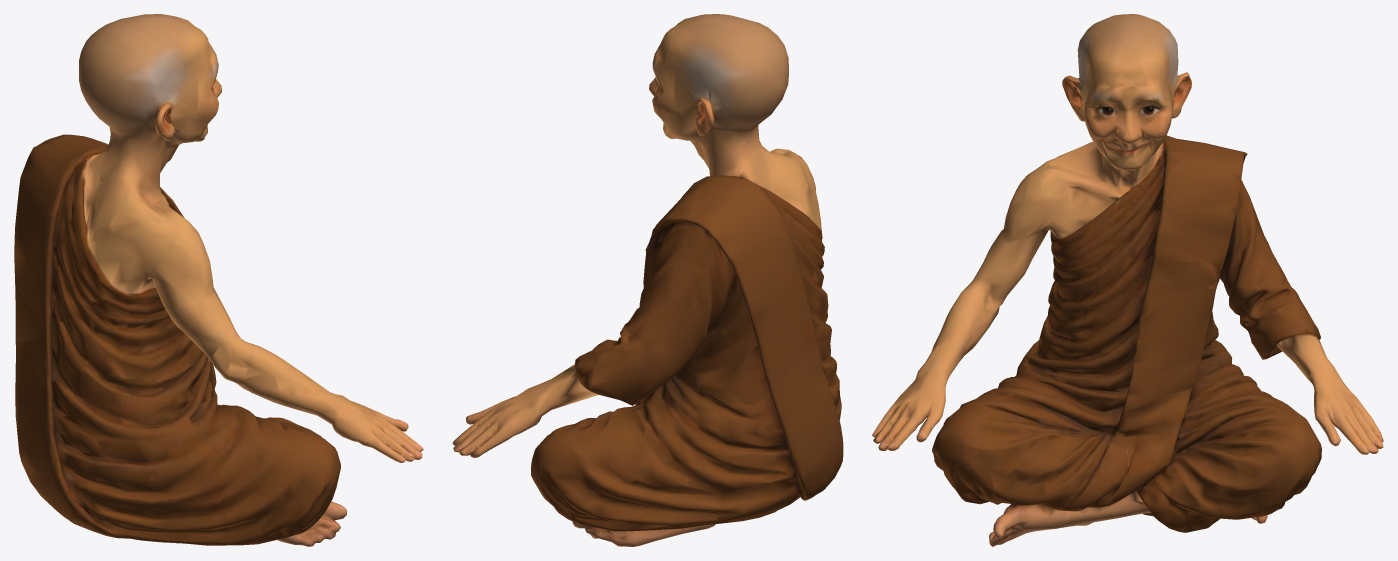
Rendered from monk-senior.glb.
3 views of the same model, side by side, from view 1: azimuth 30°, elevation 25°; view 2: azimuth 150°, elevation 25°; view 3: azimuth 270°, elevation 25° (orthographic). The views are drawn at different scales.
Parts seen in each view (by area): view 1: tripo_node_dd42ecfa-8640-494b-b948-06d48b9e2599; view 2: tripo_node_dd42ecfa-8640-494b-b948-06d48b9e2599; view 3: tripo_node_dd42ecfa-8640-494b-b948-06d48b9e2599.
Boxes of the visible parts, left/top/right/bottom form: tripo_node_dd42ecfa-8640-494b-b948-06d48b9e2599: left=14, top=14, right=423, bottom=546; tripo_node_dd42ecfa-8640-494b-b948-06d48b9e2599: left=452, top=14, right=843, bottom=546; tripo_node_dd42ecfa-8640-494b-b948-06d48b9e2599: left=872, top=14, right=1383, bottom=546.
Bounding box in the file's own units: 0.5469 × 0.9994 × 0.9722.
1 material, 1 textured.
